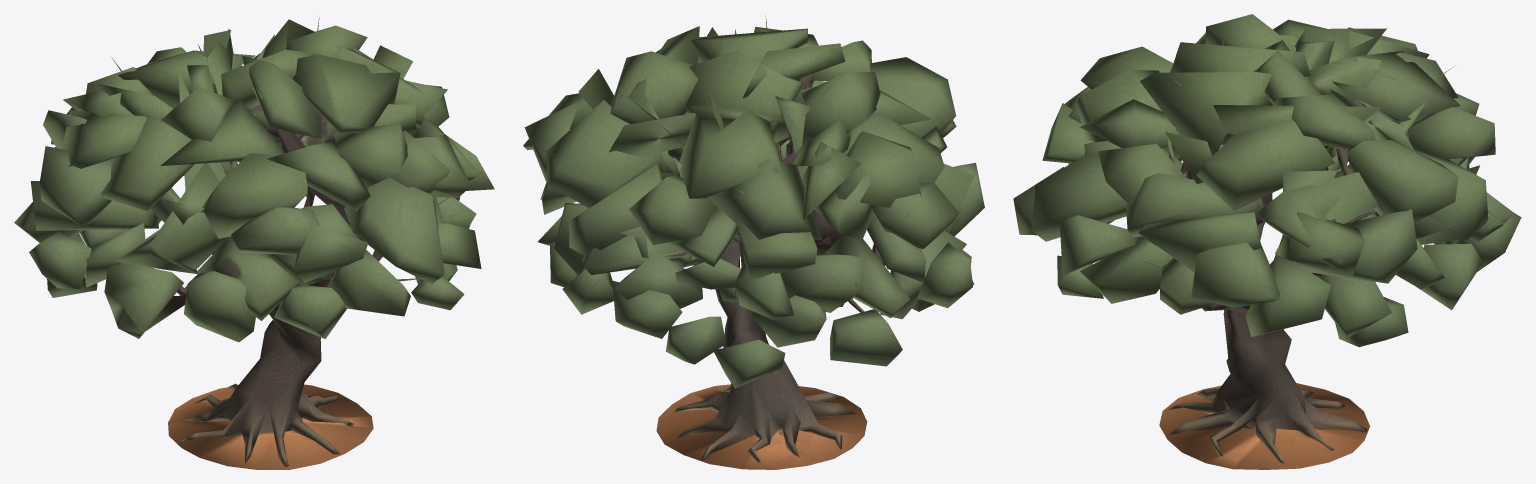
Rendered from olive.glb.
3 renders of one model, left to right at view 1: azimuth 30°, elevation 25°; view 2: azimuth 150°, elevation 25°; view 3: azimuth 270°, elevation 25°, orthographic. The views are drawn at different scales.
Size of the model in its own units: 0.9351 by 0.7822 by 0.9507.
Materials: 1 (1 with a texture image).
